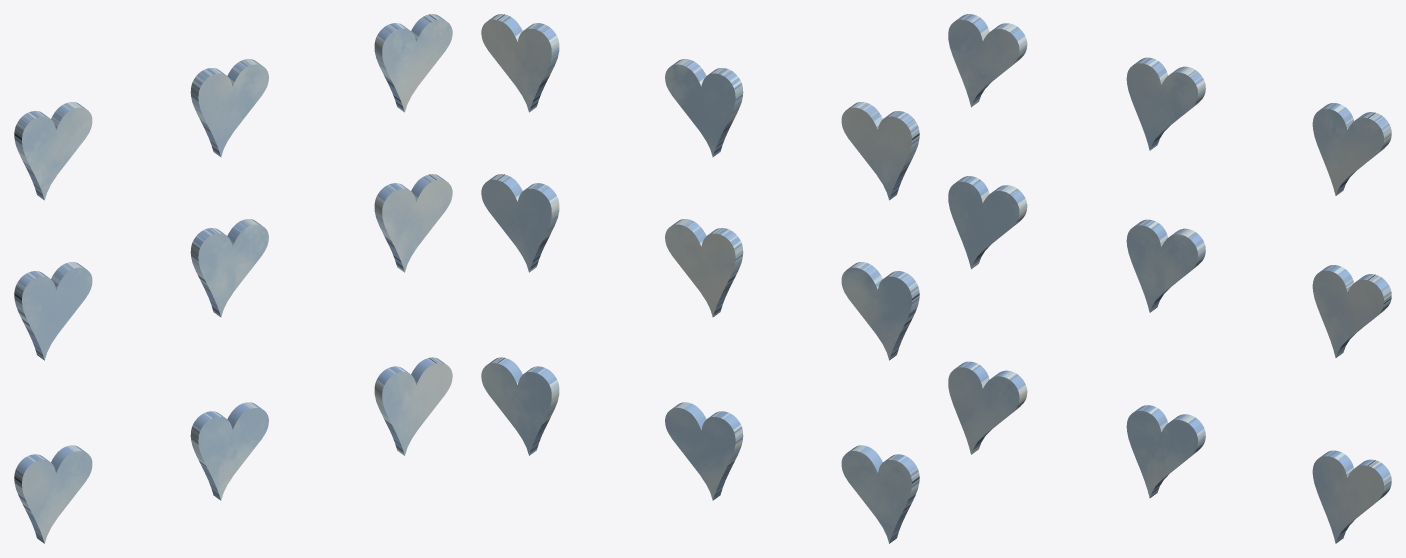
The model's file is heart.glb.
3 views of the same model, side by side, from view 1: azimuth 30°, elevation 25°; view 2: azimuth 150°, elevation 25°; view 3: azimuth 330°, elevation 25° (orthographic).
Bounding box in the file's own units: 212 × 201 × 6.52.
Materials: 1 (1 with a texture image).
